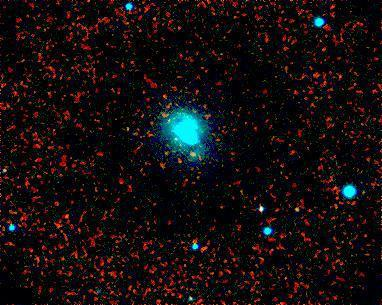star: (181, 143, 211, 173)
